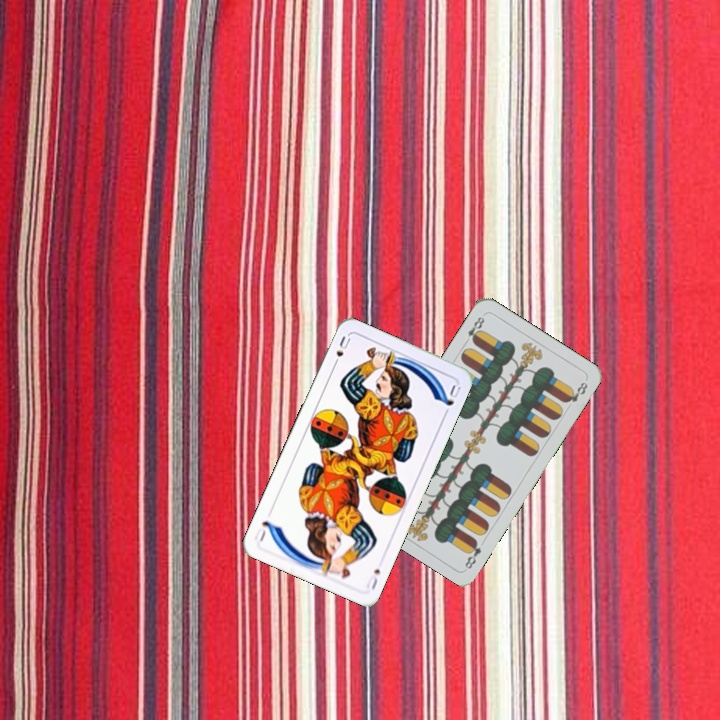E8: (460, 312, 487, 347), (461, 536, 484, 572)
SU: (329, 332, 353, 370), (362, 565, 383, 593)
